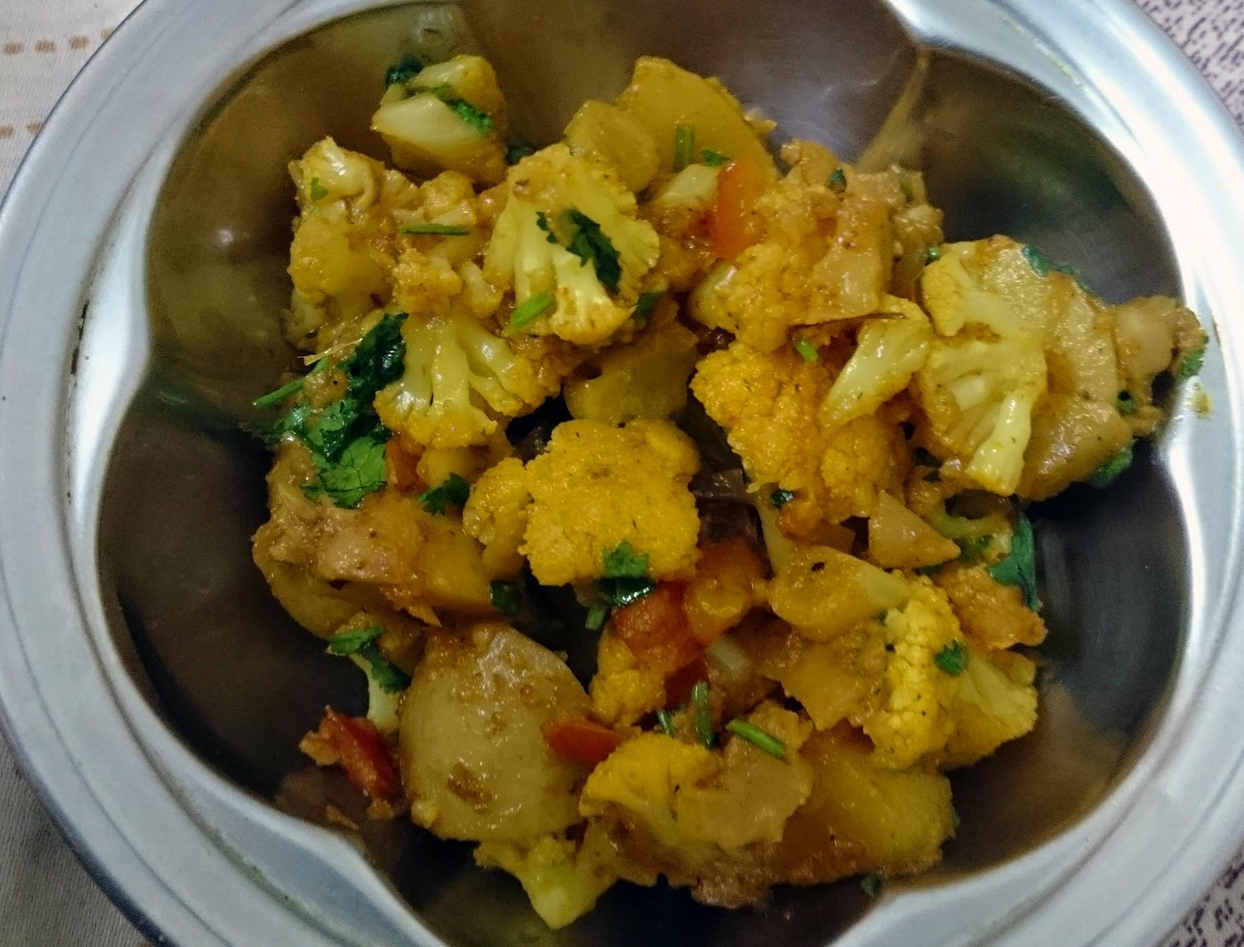AlooGobi: (254, 50, 1205, 931)
